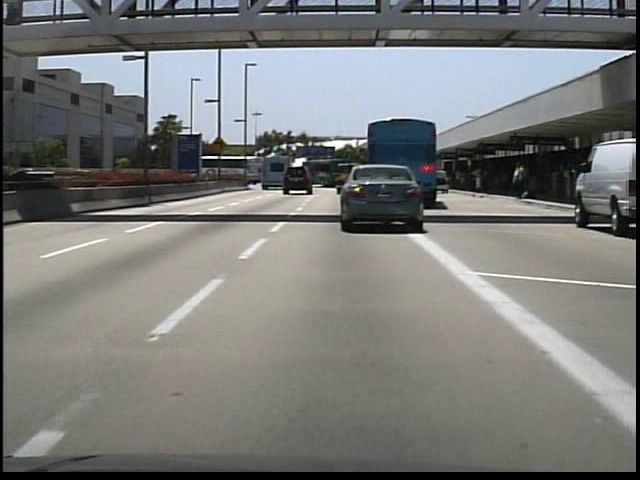person: (510, 159, 527, 202)
